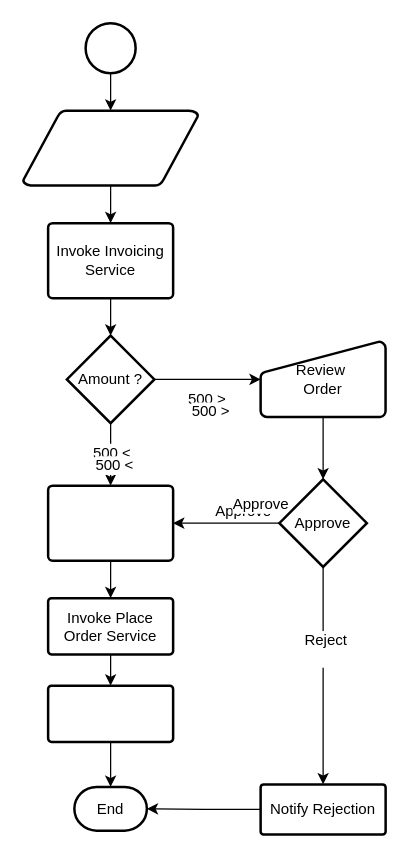
The diagram is 408 pixels wide and 856 high, and some of its shapes have lost their labels. The shapes that lost their labels are listed below. From the top down, each one's centre as x and y in pixels, then its label:
At (110,147): "Customer Place Order".
At (110,522): "Invoke Warehouse Locator Rule".
At (110,713): "Notify Delivery".
